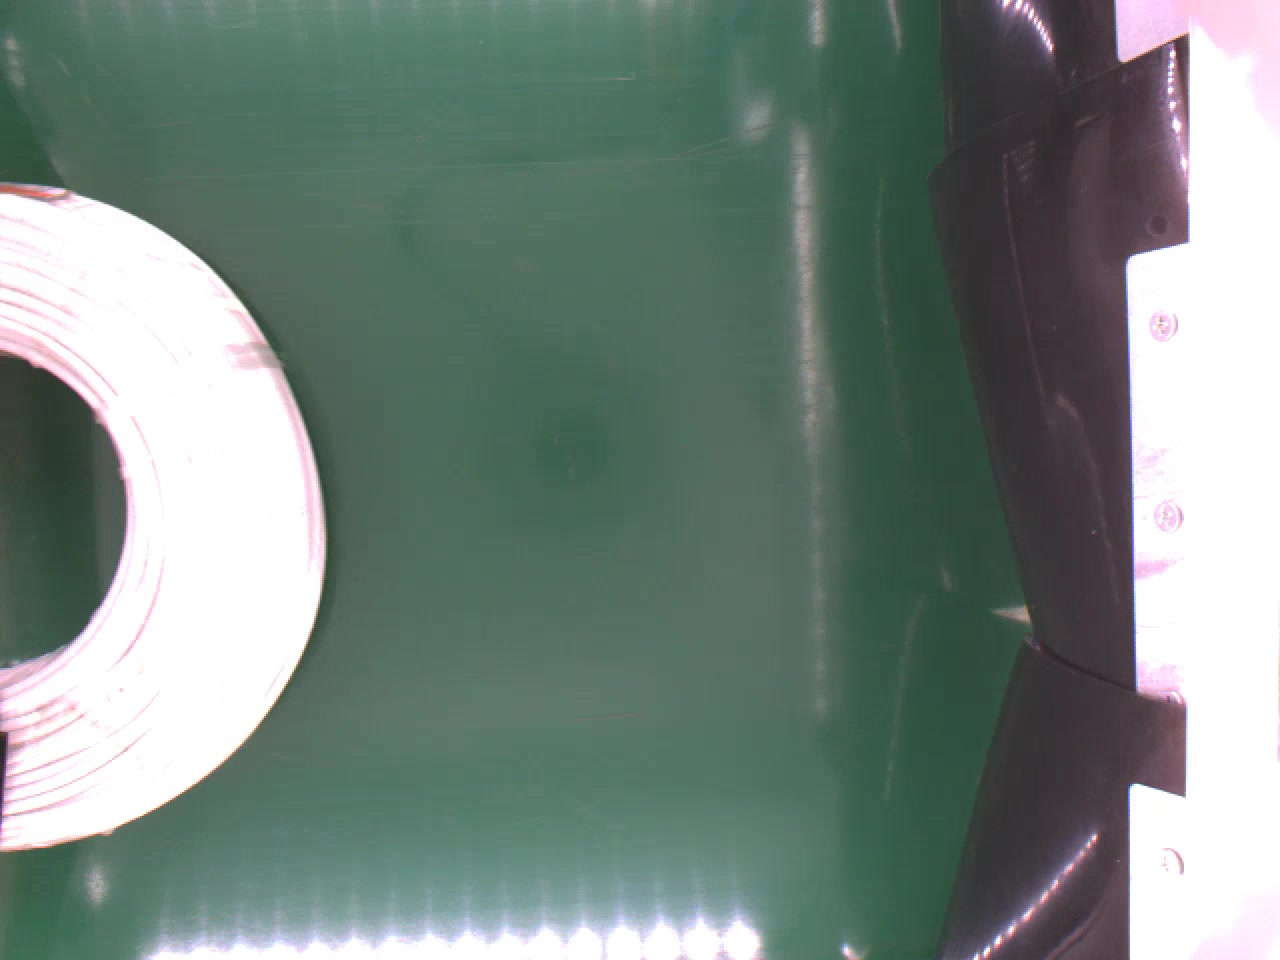white: (0, 179, 328, 853)
